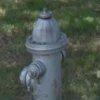Hydrant: (21, 5, 70, 100)
